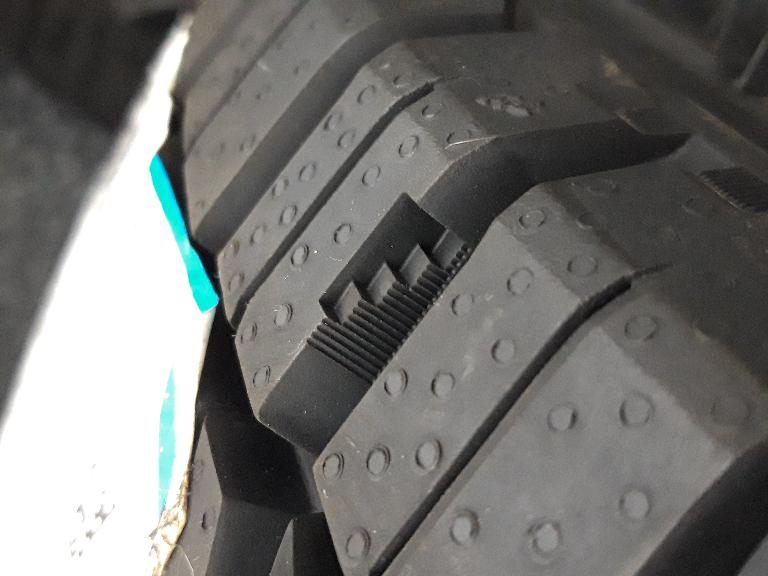temoin:100: (298, 184, 483, 393)
